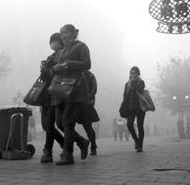person: (23, 30, 76, 166), (50, 22, 92, 166), (117, 65, 159, 154), (123, 120, 132, 142), (116, 118, 124, 142), (177, 118, 186, 139), (111, 118, 119, 140), (93, 122, 101, 139), (144, 122, 149, 139), (153, 123, 157, 138), (171, 128, 176, 138), (166, 128, 170, 136)
